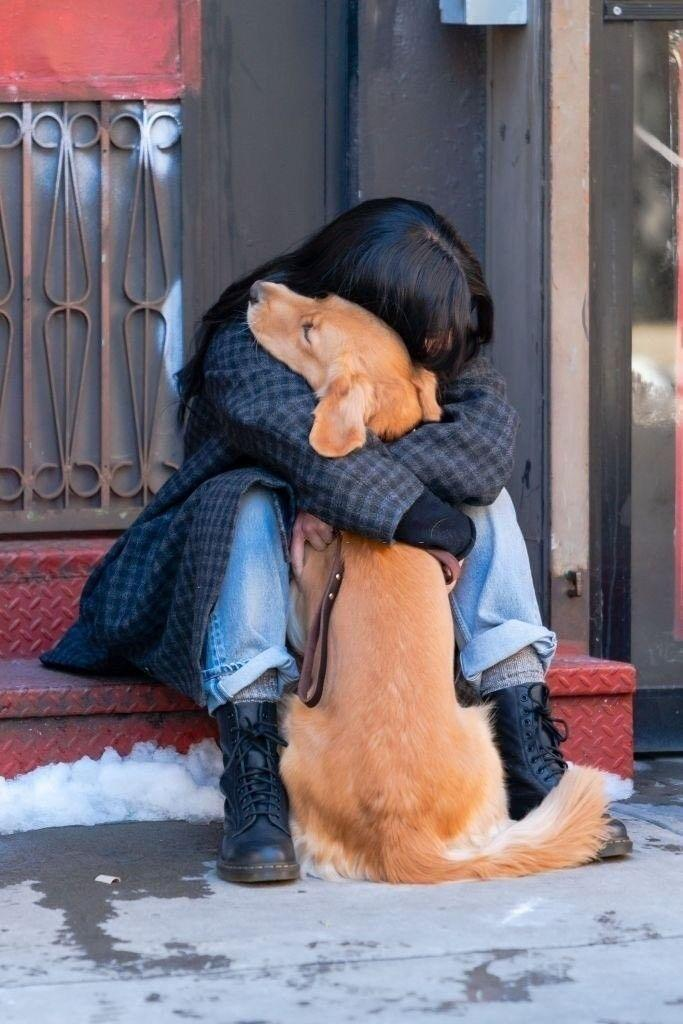adult_dog: (241, 279, 613, 885)
